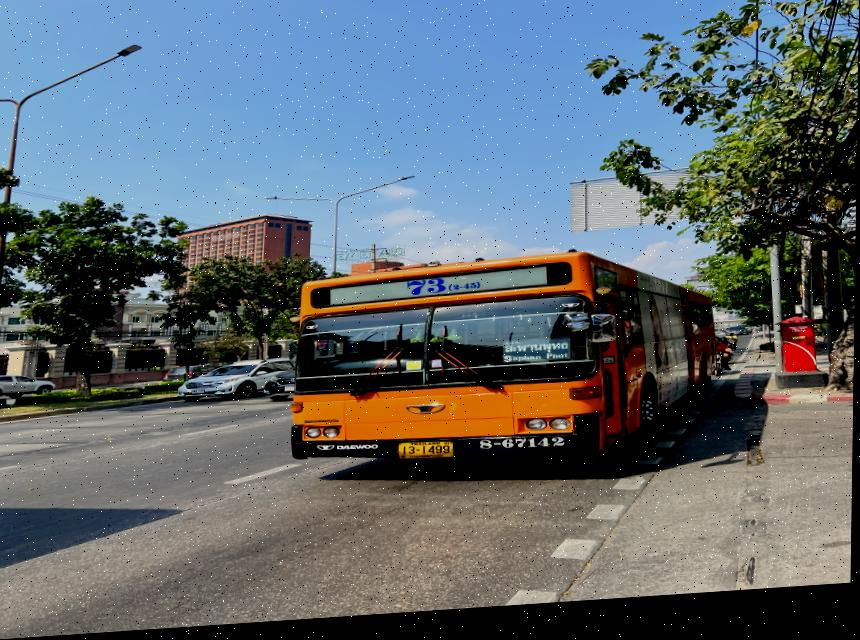BMTA-bus: (291, 260, 721, 469)
Bus Line Number: (399, 276, 491, 306)
Bus Side Number: (472, 439, 572, 462)
Destination Sign: (499, 343, 576, 372)
